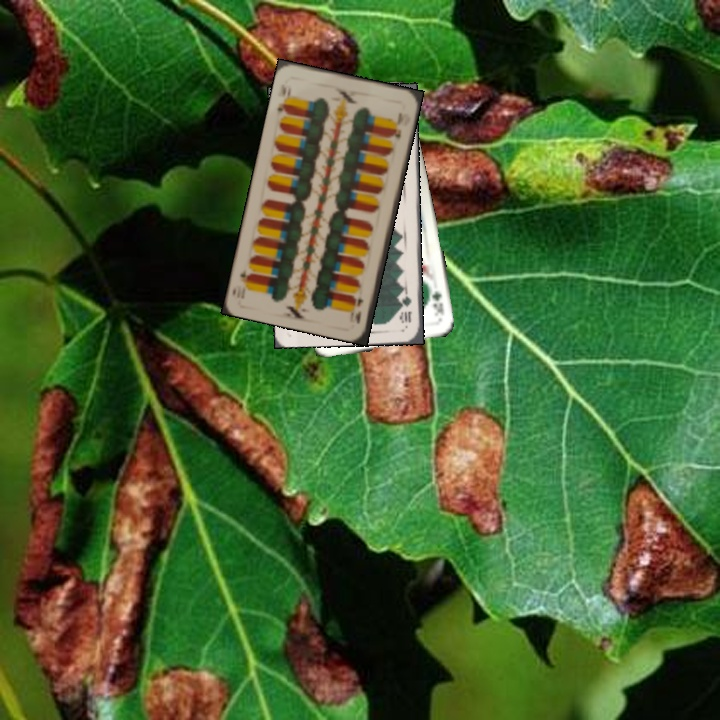E10: (273, 80, 294, 116), (350, 293, 366, 326)
G10: (398, 287, 415, 325)
GK: (428, 287, 446, 318)
